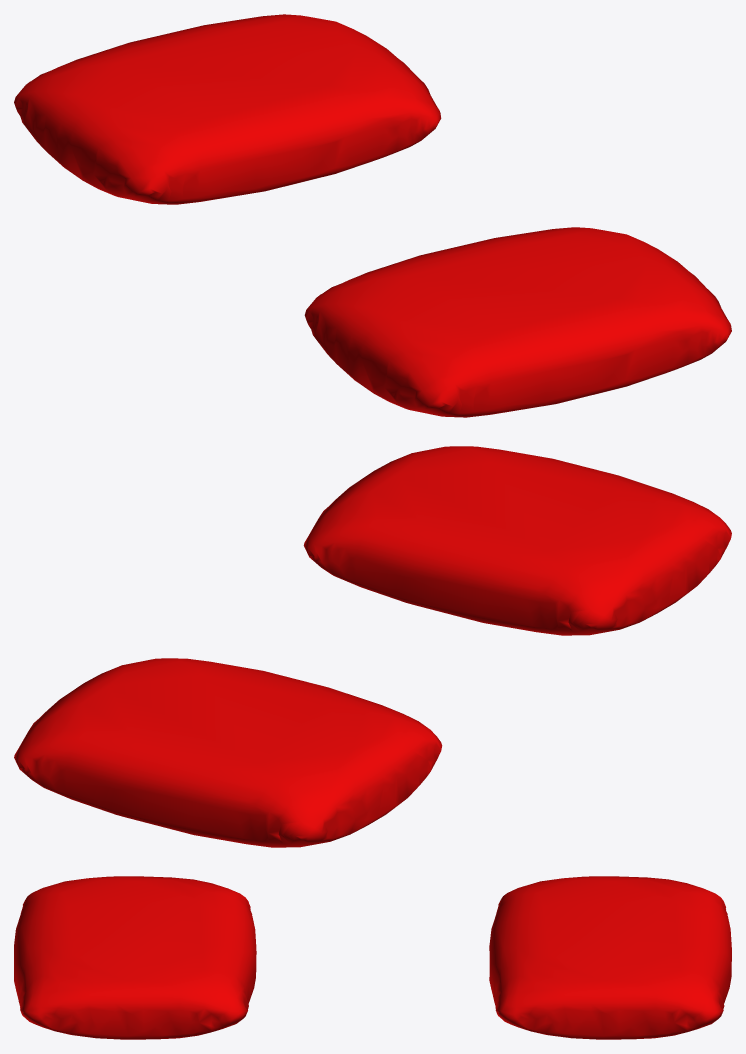
Rendered from RoboTHOR_pillows_grp.fbx.
3 renders of one model, top to bottom at view 1: azimuth 30°, elevation 25°; view 2: azimuth 150°, elevation 25°; view 3: azimuth 270°, elevation 25°, orthographic. The views are drawn at different scales.
Visible parts, largest first — view 1: robothor_pillow_dvala, robothor_pillow_sanglarka_1; view 2: robothor_pillow_dvala, robothor_pillow_sanglarka_1; view 3: robothor_pillow_dvala, robothor_pillow_sanglarka_1.
Boxes of the visible parts, x1,y1,x2,y2 form: robothor_pillow_dvala: (304,227,731,417); robothor_pillow_sanglarka_1: (14,14,441,204); robothor_pillow_dvala: (303,446,731,635); robothor_pillow_sanglarka_1: (14,658,442,847); robothor_pillow_dvala: (14,876,256,1039); robothor_pillow_sanglarka_1: (489,876,731,1039).
Bounding box in the file's own units: 67.31 × 13.55 × 151.
